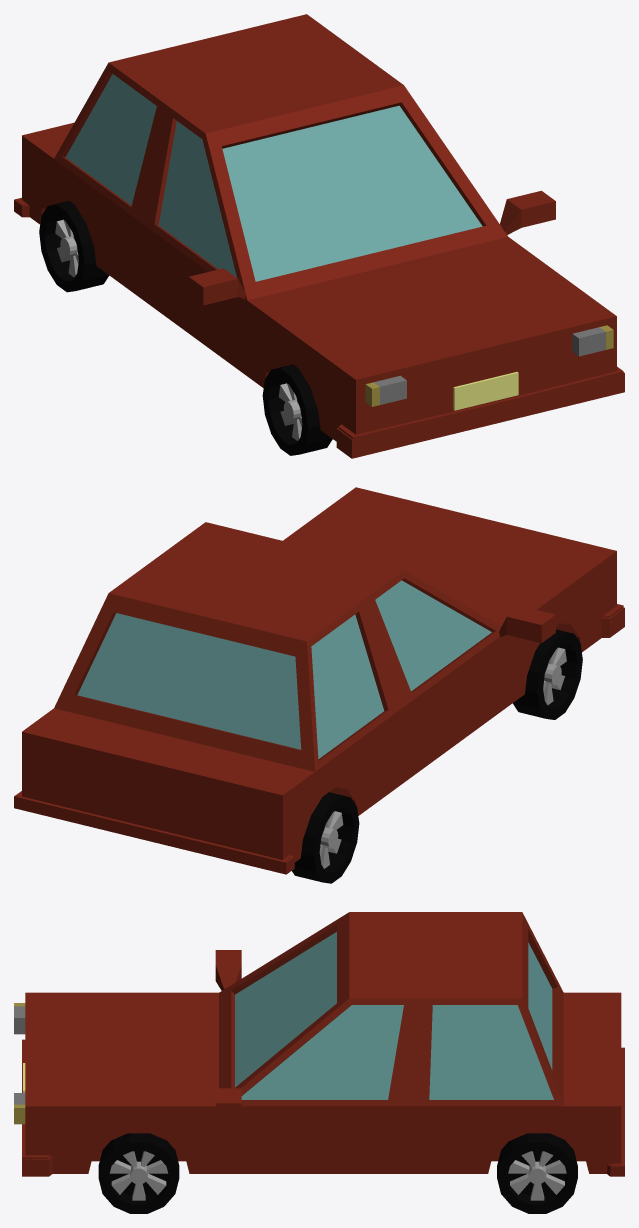
Rendered from car.glb.
3 views of the same model, one above another, from view 1: azimuth 30°, elevation 25°; view 2: azimuth 150°, elevation 25°; view 3: azimuth 270°, elevation 25° (orthographic). The views are drawn at different scales.
Parts seen in each view (by area): view 1: Cube, Cylinder.001, Cylinder.002, Cube.001; view 2: Cube, Cylinder.002, Cylinder.001; view 3: Cube, Cylinder.001, Cylinder.002.
Boxes of the visible parts, left/top/right/bottom form: Cube: left=14, top=14, right=624, bottom=458; Cylinder.001: left=262, top=364, right=332, bottom=455; Cylinder.002: left=39, top=200, right=109, bottom=292; Cube.001: left=453, top=372, right=518, bottom=410; Cube: left=14, top=487, right=624, bottom=874; Cylinder.002: left=292, top=792, right=359, bottom=883; Cylinder.001: left=512, top=629, right=582, bottom=719; Cube: left=14, top=912, right=624, bottom=1176; Cylinder.001: left=98, top=1133, right=179, bottom=1213; Cylinder.002: left=497, top=1133, right=577, bottom=1213.
Bounding box in the file's own units: 2.11 × 1.27 × 3.54.
